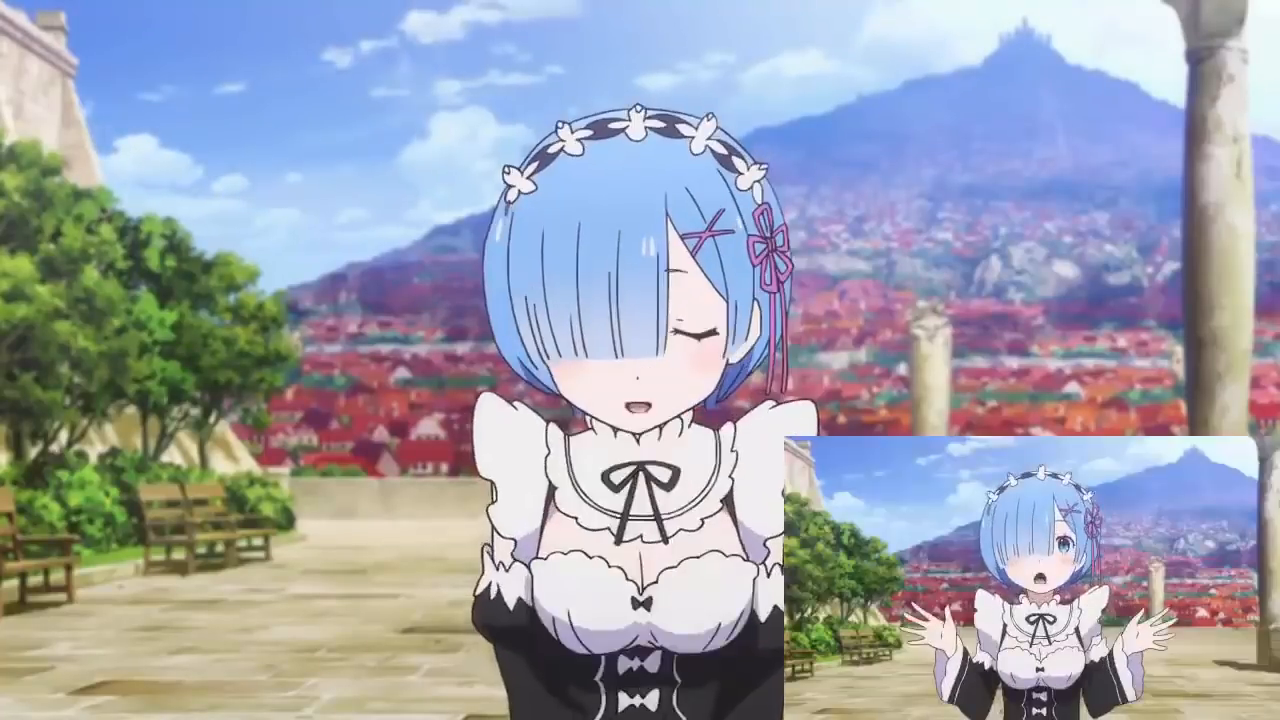REM: (478, 106, 790, 433), (973, 471, 1107, 600)
